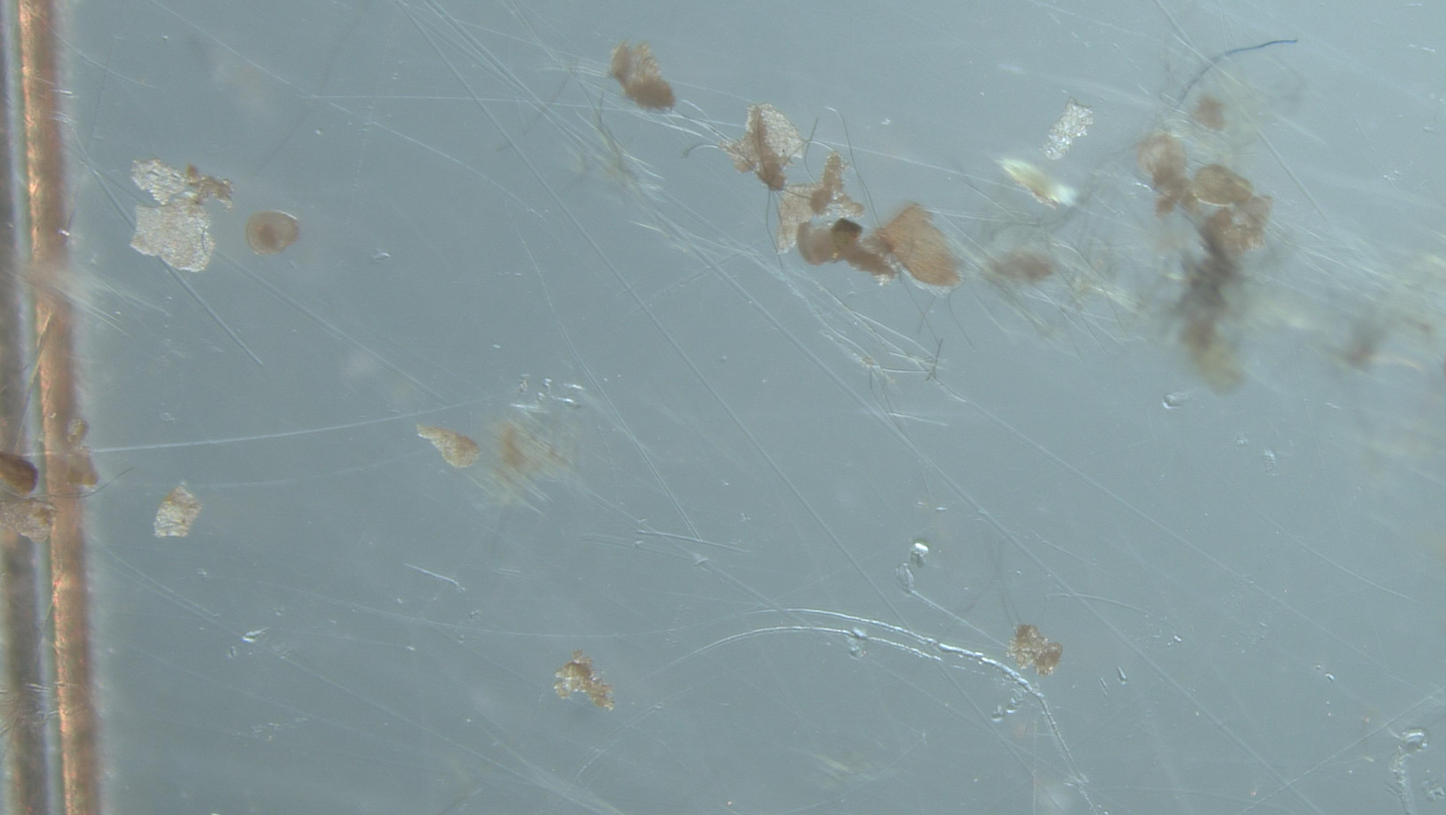live: (1193, 164, 1253, 206), (246, 211, 299, 255), (798, 222, 838, 265)
